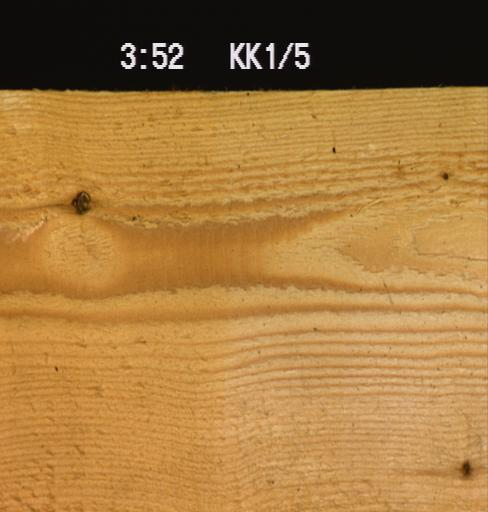dry_knot: (69, 187, 93, 215)
small_knot: (457, 457, 473, 477), (438, 168, 448, 182)
